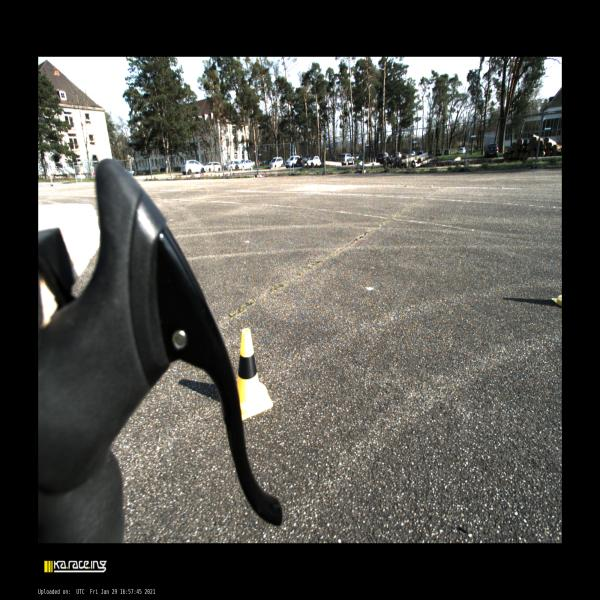yellow_cone: (238, 328, 273, 420)
